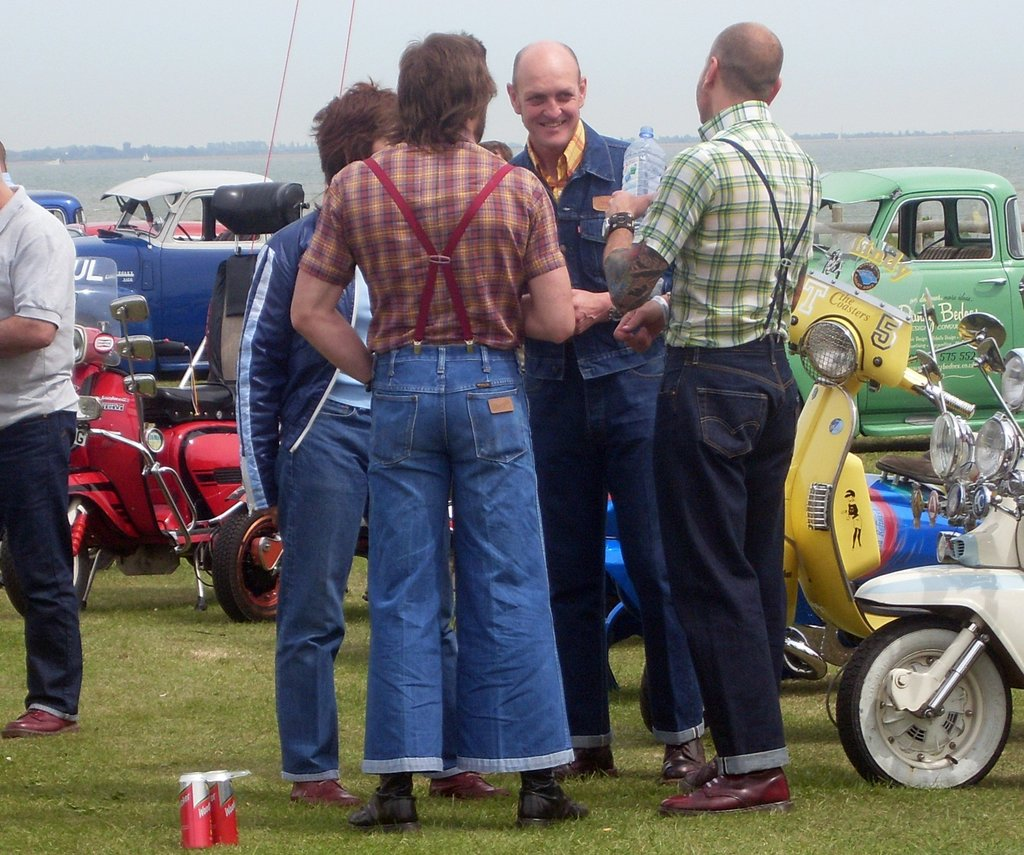Car: (768, 154, 1023, 440), (21, 165, 305, 371)
